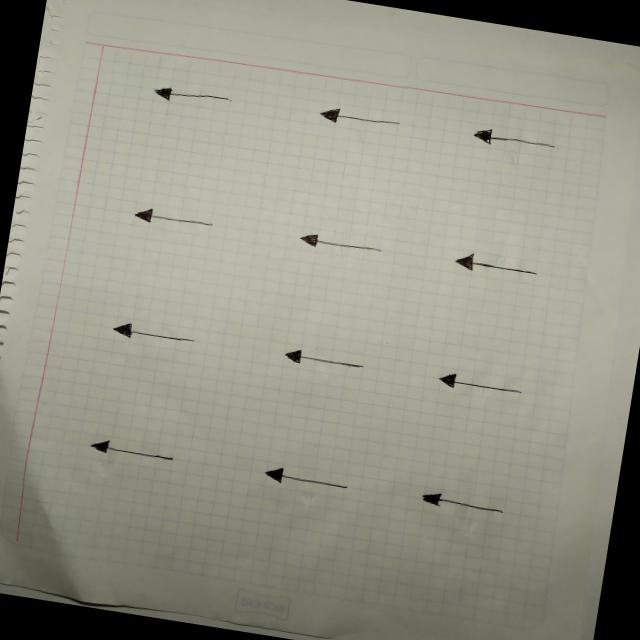arrow_line_left: (142, 72, 254, 120), (78, 430, 195, 473), (306, 96, 414, 140), (251, 460, 367, 500), (441, 247, 551, 289), (288, 224, 396, 265), (100, 316, 210, 355), (462, 120, 567, 160), (270, 342, 380, 380), (411, 486, 514, 526), (426, 366, 532, 404), (124, 202, 219, 236)
